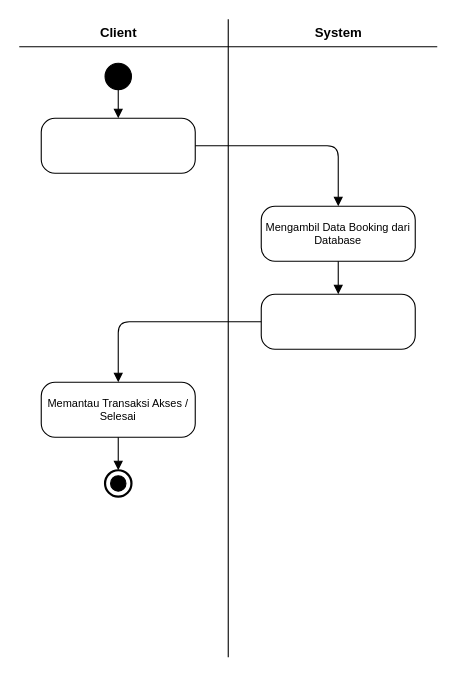
Image size: 458x678. Some labels were removed from this diagram. Here are the shapes that lost their labels. From the top down, the centre of each, then its label:
At pixel 117 145: "Akses Menu Riwayat Booking /bookings".
At pixel 337 321: "Menampilkan Daftar Booking & Invoice".
